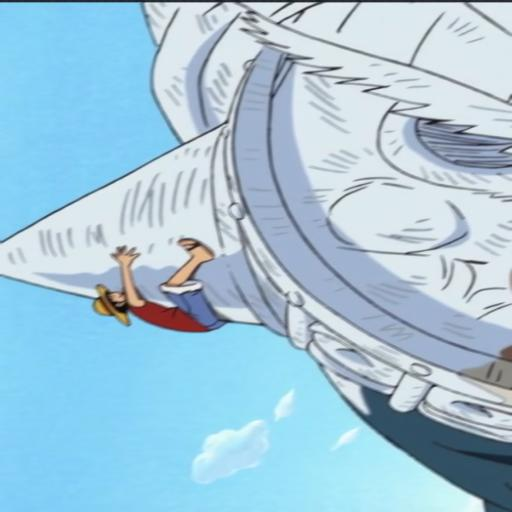Luffy: (82, 224, 242, 350)
